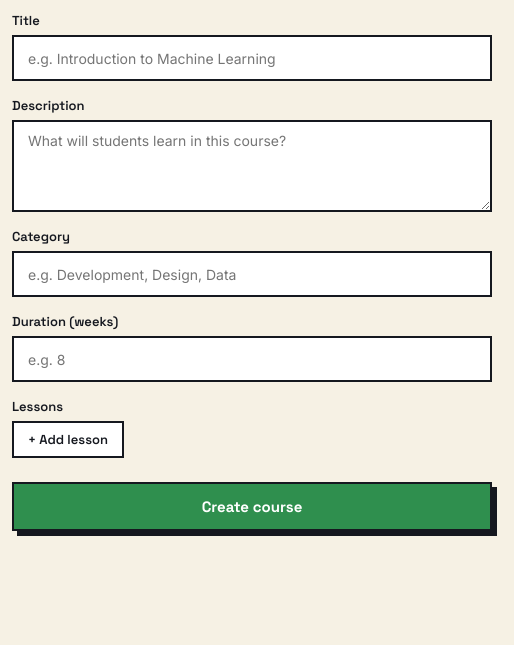
Scenario: CourseForm lessons › adds and removes lesson rows
The width and height of the screenshot is (514, 645).
Click the button "+ Add lesson". click: point(68, 440)
box: [12,421,124,458]
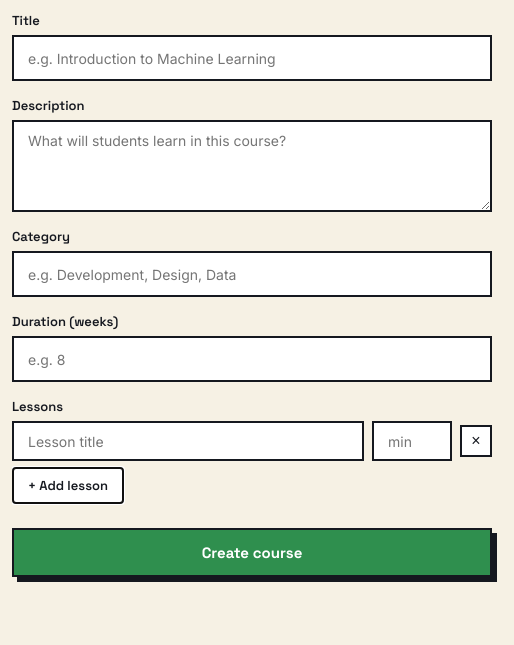
Click the button "+ Add lesson". click: point(68, 486)
box: [12,467,124,504]
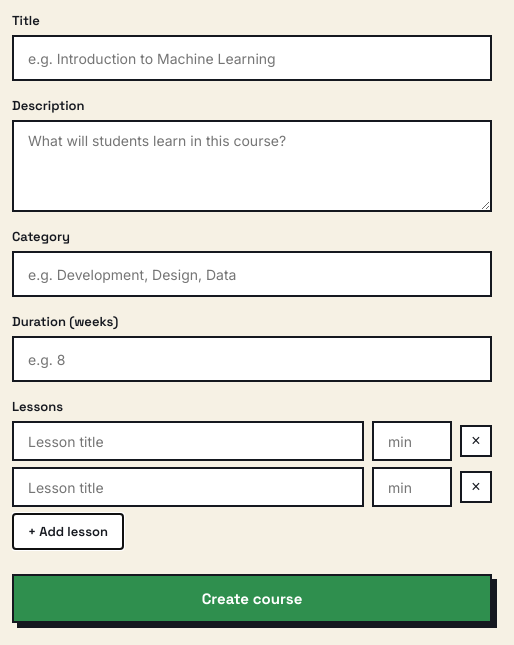
expect the number of fields with placeholder "Lesson title" is 2: met, box [12,421,364,461]; [12,467,364,507]
Click the button named "Remove lesson". click: point(476, 441)
box: [460,425,492,457]
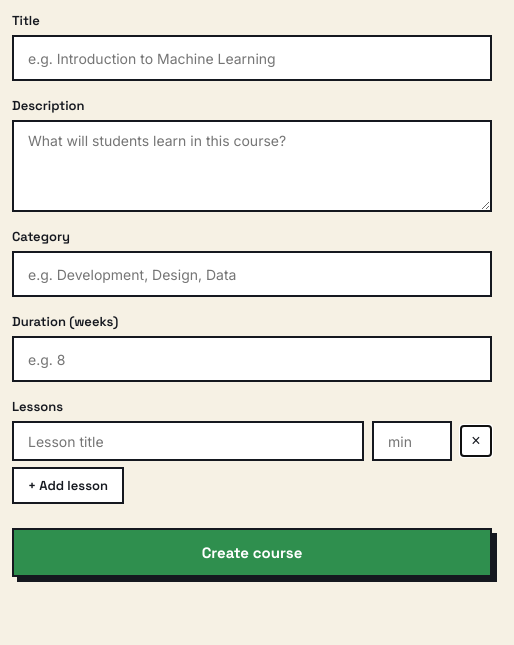
expect the number of fields with placeholder "Lesson title" is 1: met, box [12,421,364,461]
